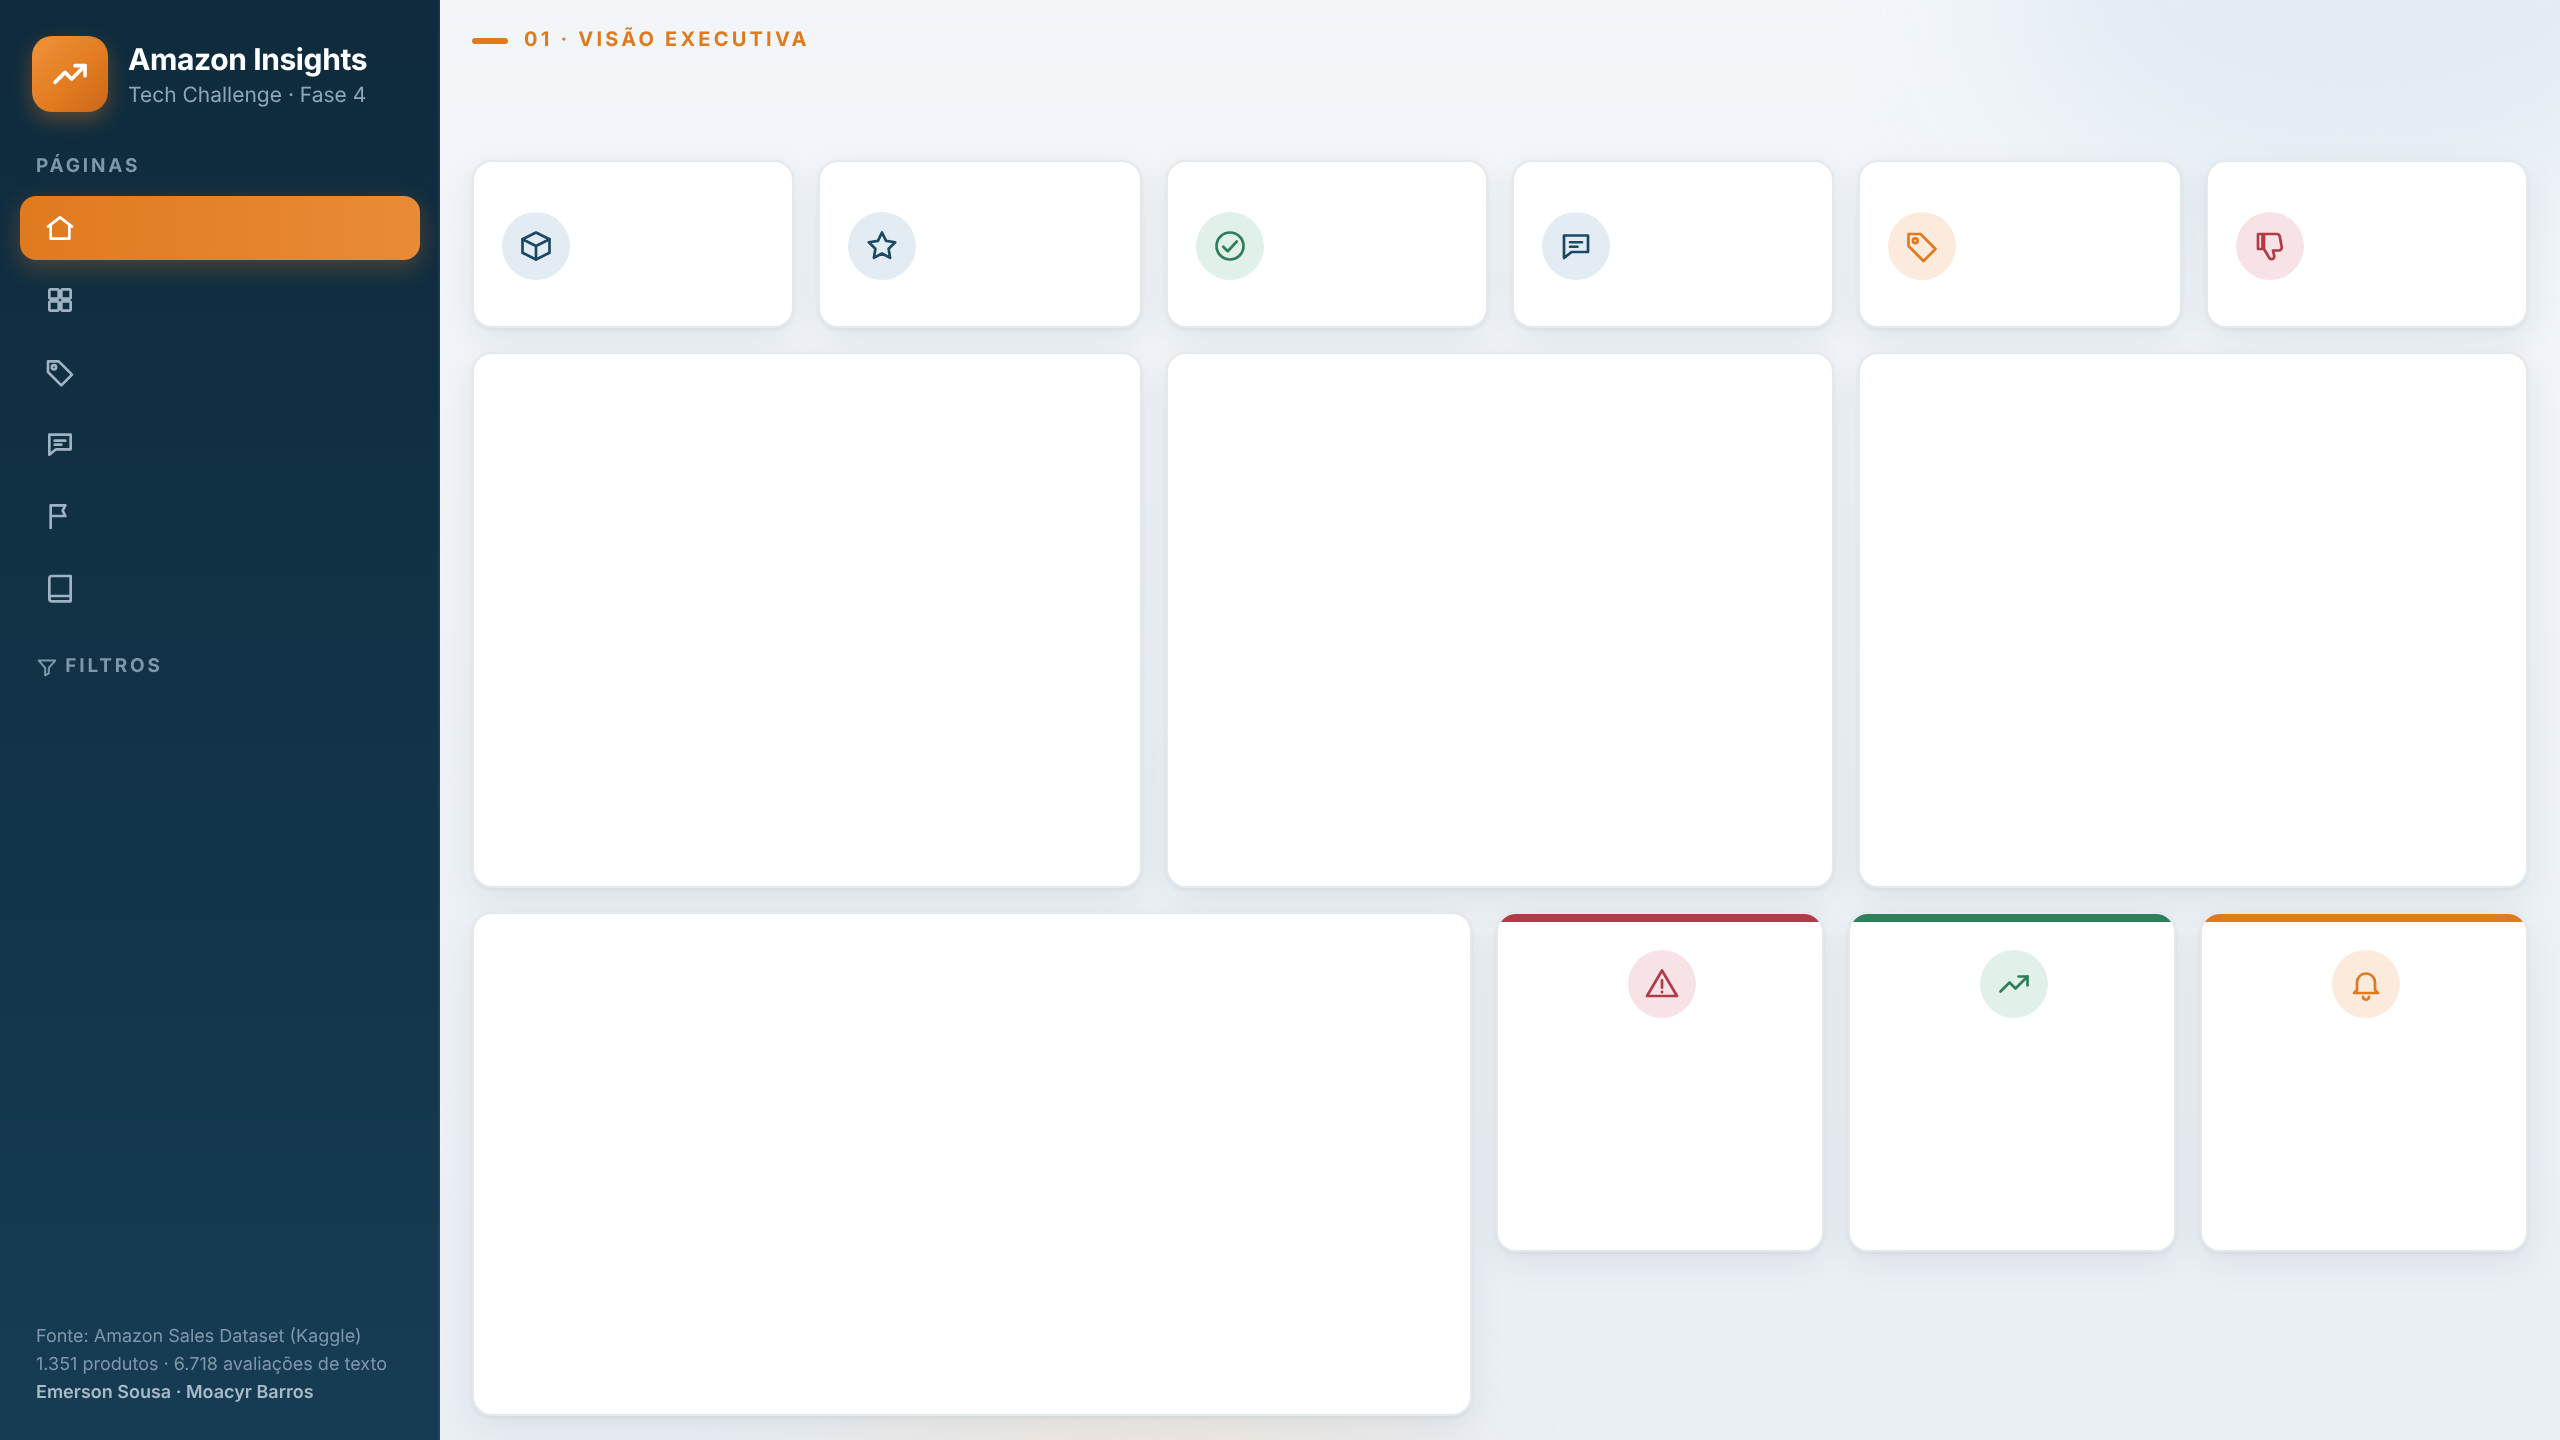

This screenshot's page, from the dashboard's own definition file:
{"tool":"powerbi","page":{"name":"1. Visão Executiva","canvas":[1280,720],"ordinal":0},"visuals":[{"type":"textbox","box":[228,26,1044,44],"z":0},{"type":"slicer","fields":{"Values":["fProdutos.categoria"]},"box":[12,350,196,56],"z":1000},{"type":"slicer","fields":{"Values":["fProdutos.subcategoria"]},"box":[12,412,196,56],"z":2000},{"type":"slicer","fields":{"Values":["fProdutos.faixa_preco"]},"box":[12,474,196,56],"z":3000},{"type":"card","fields":{"Values":["_Medidas.Produtos"]},"box":[290,84,101.3,76],"z":4000},{"type":"card","fields":{"Values":["_Medidas.Nota média"]},"box":[463.3,84,101.3,76],"z":5000},{"type":"card","fields":{"Values":["_Medidas.% nota ≥ 4,0"]},"box":[636.7,84,101.3,76],"z":6000},{"type":"card","fields":{"Values":["_Medidas.Avaliações"]},"box":[809.8,84.4,125.7,75.4],"z":7000},{"type":"card","fields":{"Values":["_Medidas.Desconto médio"]},"box":[983.3,84,101.3,76],"z":8000},{"type":"card","fields":{"Values":["_Medidas.% avaliações negativas"]},"box":[1156.3,84.4,123.9,75.4],"z":9000},{"type":"clusteredBarChart","title":"Casa e Cozinha: 33% do portfólio e só 18% das avaliações","fields":{"Category":["fProdutos.categoria"],"Y":["_Medidas.% do portfólio","_Medidas.% das avaliações"]},"box":[236,176,334.7,268],"z":10000},{"type":"clusteredColumnChart","title":"3 em cada 4 produtos têm nota 4,0 ou mais","fields":{"Category":["fProdutos.faixa_nota"],"Y":["_Medidas.Produtos"]},"box":[582.7,176,334.7,268],"z":11000},{"type":"lineChart","fields":{"Category":["dPercentil.Percentil"],"Y":["_Medidas.Concentração acumulada","_Medidas.Linha de igualdade"]},"box":[929.3,176,334.7,268],"z":12000},{"type":"clusteredBarChart","fields":{"Category":["fProdutos.quadrante"],"Y":["_Medidas.% dos produtos no grupo","_Medidas.% das avaliações no grupo"]},"box":[236,456,500,252],"z":13000},{"type":"card","fields":{"Values":["_Medidas.Famílias em risco de reputação"]},"box":[752,512,156,108],"z":14000},{"type":"card","fields":{"Values":["_Medidas.Famílias com oportunidade de visibilidade"]},"box":[928,512,156,108],"z":15000},{"type":"card","fields":{"Values":["_Medidas.Produtos com alerta nos comentários"]},"box":[1104,512,156,108],"z":16000},{"type":"textbox","box":[748,634,516,74],"z":17000},{"type":"actionButton","box":[44,98,166,32],"z":18000},{"type":"actionButton","box":[44,134,166,32],"z":19000},{"type":"actionButton","box":[44,170,166,32],"z":20000},{"type":"actionButton","box":[44,206,166,32],"z":21000},{"type":"actionButton","box":[44,242,166,32],"z":22000},{"type":"actionButton","box":[44,278,166,32],"z":23000}]}

Visuals, with their boxes on the page's 1280x720 design canvas (x1, y1, x2, y2). These are canvas units, not pixel positions in the 2560x1440 screenshot, which may show the page scaled, cropped or inside an application window:
textbox: [228,26,1272,70]
slicer - fProdutos.categoria: [12,350,208,406]
slicer - fProdutos.subcategoria: [12,412,208,468]
slicer - fProdutos.faixa_preco: [12,474,208,530]
card - _Medidas.Produtos: [290,84,391,160]
card - _Medidas.Nota média: [463,84,565,160]
card - _Medidas.% nota ≥ 4,0: [637,84,738,160]
card - _Medidas.Avaliações: [810,84,936,160]
card - _Medidas.Desconto médio: [983,84,1085,160]
card - _Medidas.% avaliações negativas: [1156,84,1280,160]
"Casa e Cozinha: 33% do portfólio e só 18% das avaliações" clusteredBarChart: [236,176,571,444]
"3 em cada 4 produtos têm nota 4,0 ou mais" clusteredColumnChart: [583,176,917,444]
lineChart - dPercentil.Percentil x _Medidas.Concentração acumulada: [929,176,1264,444]
clusteredBarChart - fProdutos.quadrante x _Medidas.% dos produtos no grupo: [236,456,736,708]
card - _Medidas.Famílias em risco de reputação: [752,512,908,620]
card - _Medidas.Famílias com oportunidade de visibilidade: [928,512,1084,620]
card - _Medidas.Produtos com alerta nos comentários: [1104,512,1260,620]
textbox: [748,634,1264,708]
actionButton: [44,98,210,130]
actionButton: [44,134,210,166]
actionButton: [44,170,210,202]
actionButton: [44,206,210,238]
actionButton: [44,242,210,274]
actionButton: [44,278,210,310]
